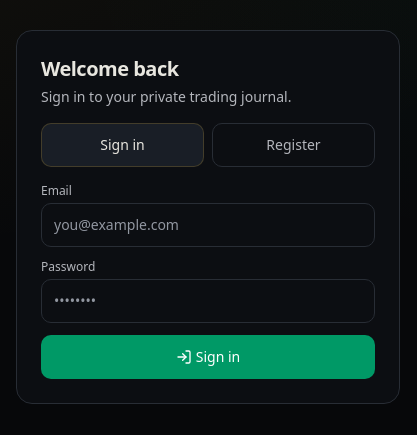
LoginPage › surfaces INVALID_CREDENTIALS server errors
Step 1. Type "a@example.com" into the field labelled "Email" → (208, 225), box [41, 203, 375, 247]
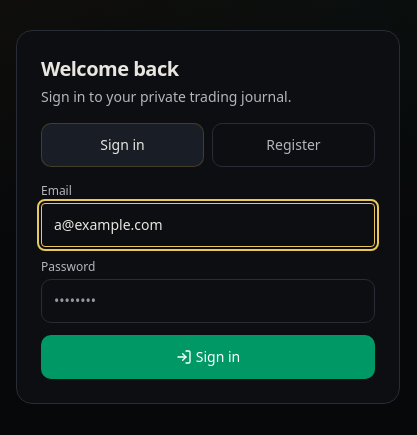
Step 2. Type "WrongPassword999!" into the password field labelled "Password" → (208, 301), box [41, 279, 375, 323]
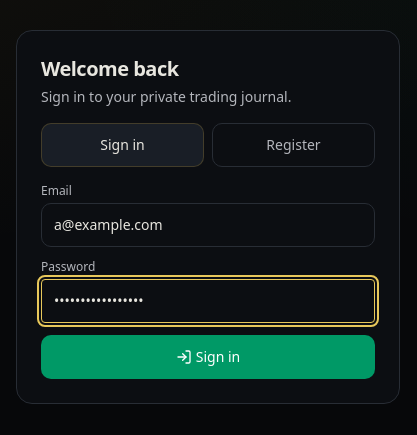
Step 3. Click the button "Sign in" below "Password" → (208, 357), box [41, 335, 375, 379]
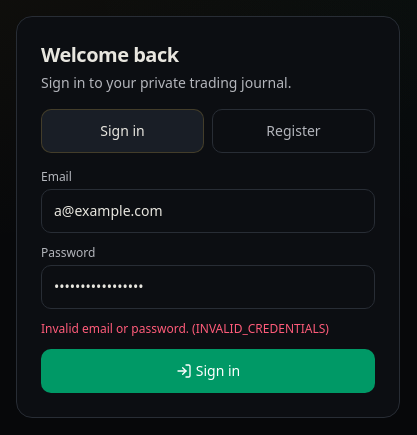
Now the message shows "INVALID_CREDENTIALS", box [41, 320, 329, 337]
